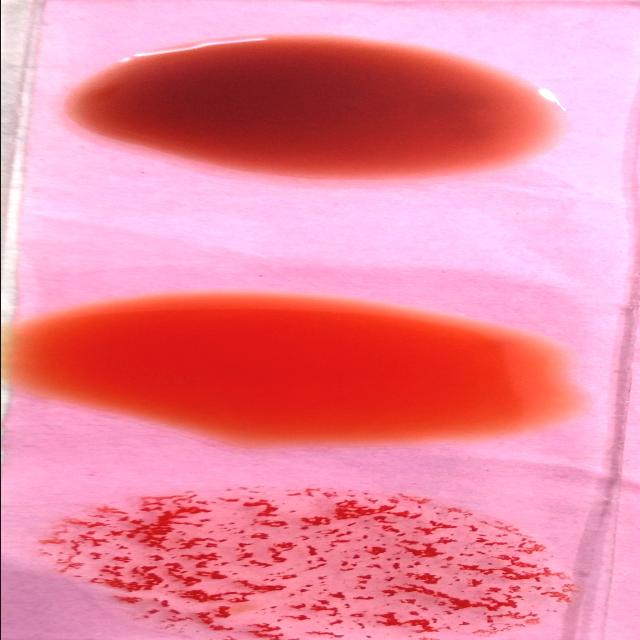D: (39, 483, 584, 640)
